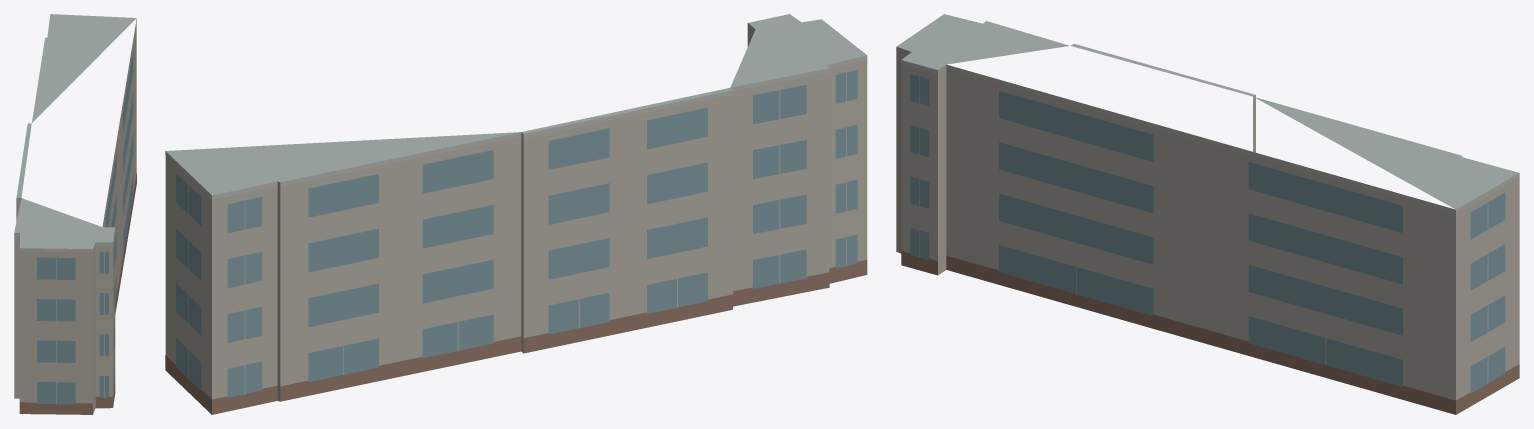
Rendered from survey-upis-32469730.glb.
3 views of the same model, side by side, from view 1: azimuth 30°, elevation 25°; view 2: azimuth 150°, elevation 25°; view 3: azimuth 270°, elevation 25° (orthographic). The views are drawn at different scales.
Visible parts, largest first — view 1: survey-upis-32469730.tmp; view 2: survey-upis-32469730.tmp; view 3: survey-upis-32469730.tmp.
Boxes of the visible parts, x1,y1,x2,y2 form: survey-upis-32469730.tmp: [14, 14, 136, 414]; survey-upis-32469730.tmp: [165, 14, 867, 414]; survey-upis-32469730.tmp: [896, 14, 1519, 414].
Bounding box in the file's own units: 24.94 × 12.2 × 33.57.
